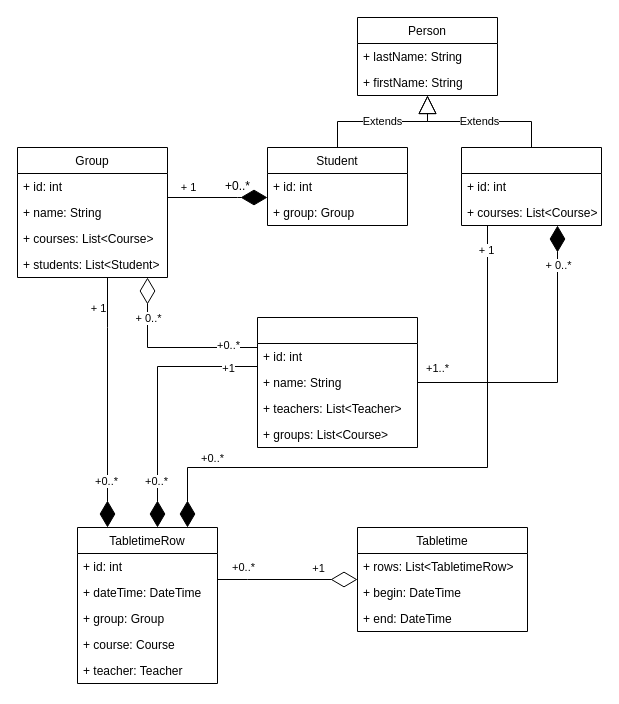
This 619x704 diagram has some shape labels left out. Here are the shapes that lost their labels. From the top down, the box of each, then its label:
(460, 146, 602, 226): Teacher
(256, 316, 418, 448): Course
